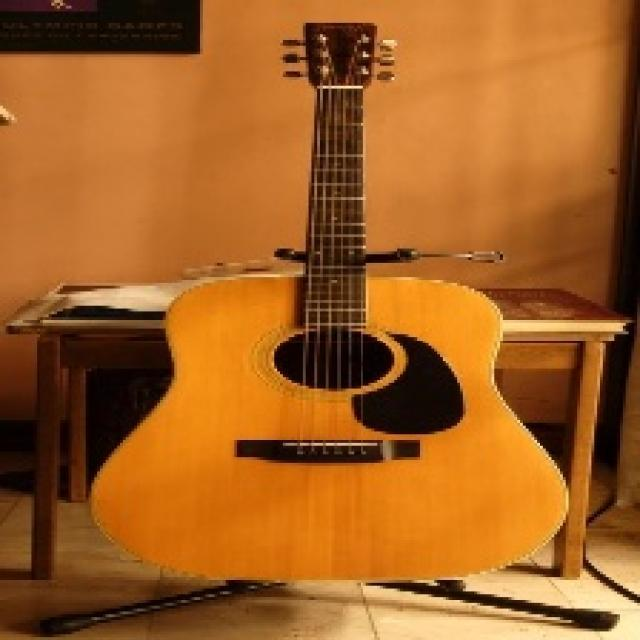acousticguitar: (92, 23, 565, 578)
